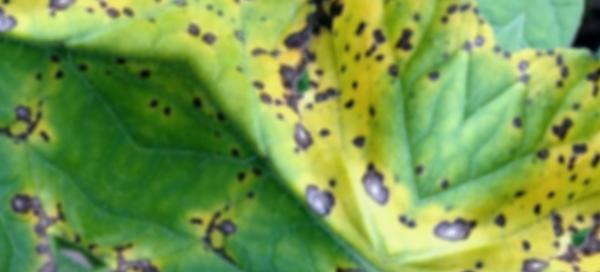Tomato Septoria leaf spot: (36, 0, 528, 272)
